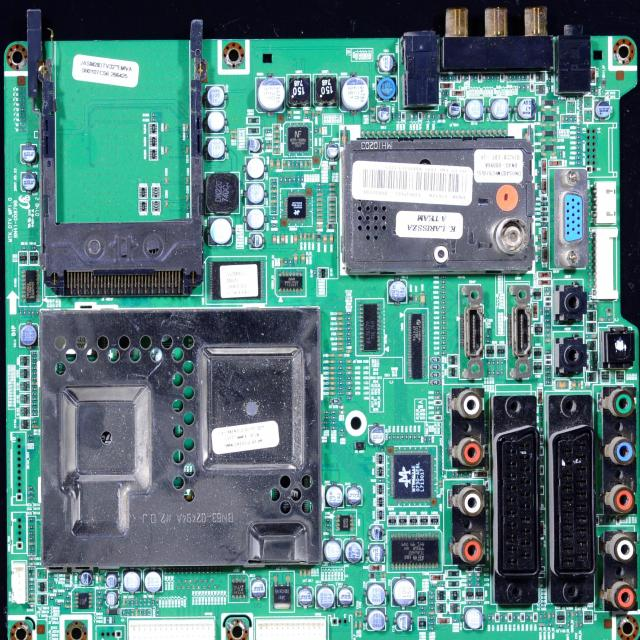Capacitor Jumper: (419, 291, 425, 306), (268, 159, 274, 170), (300, 253, 306, 263), (276, 158, 281, 169), (185, 194, 190, 203), (329, 235, 334, 244), (293, 235, 298, 244), (345, 365, 353, 370), (328, 376, 336, 381), (281, 234, 285, 244), (323, 234, 327, 244), (272, 234, 276, 244), (293, 254, 298, 262), (414, 294, 418, 304), (308, 232, 312, 241), (346, 380, 353, 385), (329, 381, 336, 386), (346, 391, 353, 396), (339, 410, 346, 415), (29, 541, 36, 546), (185, 177, 190, 184), (316, 192, 323, 197), (164, 200, 169, 207), (337, 326, 344, 331), (337, 346, 344, 351), (358, 621, 362, 629), (186, 124, 190, 132), (318, 127, 322, 135), (308, 160, 312, 168), (287, 160, 291, 168), (270, 189, 278, 193), (328, 218, 336, 222), (280, 258, 284, 266), (328, 360, 336, 364), (329, 371, 335, 376), (32, 424, 38, 429), (274, 124, 280, 129), (165, 145, 168, 155), (271, 199, 277, 204), (337, 316, 343, 321), (346, 349, 352, 354), (346, 359, 352, 364), (329, 366, 336, 370), (31, 382, 38, 386), (329, 386, 336, 390), (329, 392, 336, 396), (339, 406, 346, 410), (28, 562, 35, 566), (482, 74, 486, 81), (303, 110, 310, 114), (286, 110, 293, 114), (273, 130, 280, 134), (230, 130, 237, 134), (273, 134, 280, 138), (273, 140, 280, 144), (265, 144, 272, 148), (164, 177, 168, 184), (316, 198, 323, 202), (316, 212, 323, 216), (337, 338, 344, 342), (337, 353, 344, 357), (165, 123, 168, 132), (283, 160, 286, 169), (346, 371, 352, 375), (600, 516, 603, 524), (28, 557, 34, 561), (299, 568, 302, 576), (99, 574, 102, 582), (429, 611, 435, 615), (548, 612, 551, 620), (505, 74, 508, 82), (526, 84, 529, 92), (550, 123, 556, 127), (541, 123, 547, 127), (231, 135, 237, 139), (550, 138, 556, 142), (274, 145, 280, 149), (186, 146, 189, 154), (274, 150, 280, 154), (329, 182, 335, 186), (329, 192, 335, 196), (329, 202, 335, 206), (330, 212, 336, 216), (312, 233, 315, 241), (544, 292, 550, 296), (545, 307, 551, 311), (337, 311, 343, 315), (598, 318, 604, 322), (338, 322, 344, 326), (336, 332, 344, 335), (545, 338, 551, 342), (337, 342, 343, 346), (329, 353, 335, 357), (308, 569, 311, 576), (122, 599, 125, 606), (135, 609, 138, 616), (571, 611, 574, 618), (517, 614, 520, 621), (492, 614, 495, 621), (526, 74, 529, 81), (580, 115, 583, 122), (561, 115, 564, 122), (304, 161, 307, 168), (300, 161, 303, 168), (329, 208, 336, 211), (316, 218, 323, 221), (316, 225, 323, 228), (541, 108, 546, 112), (312, 110, 314, 120), (541, 138, 546, 142), (539, 584, 545, 587), (29, 604, 35, 607), (64, 605, 70, 608), (359, 611, 362, 617), (575, 622, 578, 628), (539, 623, 545, 626), (550, 108, 556, 111), (316, 111, 322, 114), (319, 148, 322, 154), (550, 153, 556, 156), (329, 188, 335, 191), (329, 198, 335, 201), (316, 203, 322, 206), (316, 208, 322, 211), (606, 313, 612, 316), (304, 568, 306, 576), (300, 232, 302, 240), (304, 232, 306, 240), (538, 244, 540, 252), (476, 573, 481, 576), (381, 574, 386, 577), (541, 153, 546, 156), (592, 335, 597, 338), (613, 517, 615, 524), (505, 614, 507, 621), (530, 614, 532, 621), (355, 621, 357, 628), (468, 573, 472, 576), (355, 611, 357, 617), (29, 578, 34, 580), (30, 598, 34, 600)
Connector: (591, 228, 618, 300), (129, 620, 215, 640), (256, 620, 326, 640), (592, 183, 617, 224), (11, 564, 26, 604)
IC: (273, 576, 291, 609), (72, 588, 95, 612), (232, 578, 246, 599), (436, 590, 446, 601), (37, 582, 47, 592), (369, 573, 376, 578)
Resistor Jumper: (150, 112, 157, 118), (337, 386, 344, 391), (346, 396, 353, 401), (28, 531, 35, 536), (28, 536, 35, 541), (31, 356, 38, 361), (572, 381, 576, 389), (392, 433, 396, 441), (284, 258, 288, 266), (31, 366, 37, 371), (338, 391, 344, 396), (346, 321, 352, 326), (485, 339, 491, 344), (337, 371, 344, 375), (337, 376, 344, 380), (337, 381, 344, 385), (27, 434, 34, 438), (428, 436, 432, 443), (28, 490, 35, 494), (28, 496, 35, 500), (538, 578, 545, 582), (513, 74, 517, 81), (286, 116, 293, 120), (265, 130, 272, 134), (544, 287, 551, 291), (345, 312, 352, 316), (31, 352, 38, 356), (545, 365, 551, 369), (338, 366, 344, 370), (346, 376, 352, 380), (578, 381, 581, 389), (346, 386, 352, 390), (32, 387, 38, 391), (32, 397, 38, 401), (32, 402, 38, 406), (32, 407, 38, 411), (401, 433, 404, 441), (396, 433, 399, 441), (409, 433, 412, 441), (405, 434, 408, 442), (388, 433, 391, 441), (28, 439, 34, 443), (28, 486, 34, 490), (28, 518, 34, 522), (608, 516, 611, 524), (28, 525, 34, 529), (29, 552, 35, 556), (168, 568, 172, 574), (49, 596, 55, 600), (65, 600, 71, 604), (156, 598, 159, 606), (134, 599, 138, 605), (139, 608, 142, 616), (558, 624, 564, 628), (509, 74, 512, 82), (496, 74, 499, 82), (471, 74, 474, 82), (518, 83, 521, 91), (537, 168, 540, 176), (289, 258, 292, 266), (606, 308, 612, 312), (346, 316, 352, 320), (346, 327, 352, 331), (346, 337, 352, 341), (346, 342, 352, 346), (496, 359, 499, 366), (488, 369, 491, 376), (424, 436, 427, 443), (131, 609, 134, 616), (552, 612, 555, 619), (488, 614, 491, 621), (112, 617, 115, 624), (518, 74, 521, 81), (487, 75, 490, 82), (474, 75, 477, 82), (537, 183, 540, 190), (32, 376, 37, 380), (32, 412, 37, 416), (476, 578, 481, 582), (57, 592, 62, 596), (420, 606, 425, 610), (151, 118, 156, 122), (441, 290, 446, 294), (545, 312, 550, 316), (485, 329, 490, 333), (338, 360, 343, 364), (488, 360, 491, 366), (32, 362, 38, 365), (545, 371, 551, 374), (492, 370, 495, 376), (546, 381, 552, 384), (32, 392, 38, 395), (414, 433, 416, 442), (202, 567, 205, 573), (181, 568, 184, 574), (164, 568, 167, 574), (29, 593, 35, 596), (65, 595, 71, 598), (152, 599, 155, 605), (139, 599, 142, 605), (476, 601, 482, 604), (96, 601, 102, 604), (97, 606, 103, 609), (420, 612, 426, 615), (575, 611, 578, 617), (452, 619, 458, 622), (429, 622, 435, 625), (567, 622, 570, 628), (522, 74, 525, 80), (522, 84, 525, 90), (569, 116, 572, 122), (266, 140, 272, 143), (440, 281, 446, 284), (441, 316, 447, 319), (606, 318, 612, 321), (545, 329, 551, 332), (346, 332, 352, 335), (546, 334, 552, 337), (545, 351, 551, 354), (418, 433, 420, 441), (468, 578, 472, 582), (50, 586, 54, 590), (144, 598, 146, 606), (430, 606, 434, 610), (148, 608, 150, 616), (157, 608, 159, 616), (544, 612, 546, 620), (540, 612, 542, 620), (492, 74, 494, 82), (314, 269, 316, 277), (442, 341, 446, 345), (32, 372, 37, 375), (546, 376, 551, 379), (29, 568, 34, 571), (215, 568, 218, 573), (49, 575, 54, 578), (29, 583, 34, 586), (476, 583, 481, 586), (97, 591, 102, 594), (429, 591, 434, 594), (429, 596, 434, 599), (57, 603, 62, 606), (429, 617, 434, 620), (548, 623, 553, 626), (576, 126, 581, 129), (576, 131, 581, 134), (541, 202, 546, 205), (441, 286, 446, 289), (441, 296, 446, 299), (441, 301, 446, 304), (441, 306, 446, 309), (441, 311, 446, 314), (545, 319, 550, 322), (441, 321, 446, 324), (545, 324, 550, 327), (485, 335, 490, 338), (441, 336, 446, 339), (441, 346, 446, 349), (497, 369, 499, 376), (598, 374, 600, 381), (604, 517, 606, 524), (131, 599, 133, 606), (127, 599, 129, 606), (123, 609, 125, 616), (127, 609, 129, 616), (144, 609, 146, 616), (567, 611, 569, 618), (501, 614, 503, 621), (526, 614, 528, 621), (107, 617, 109, 624), (540, 307, 542, 314), (492, 360, 494, 366), (501, 360, 503, 366), (501, 370, 503, 376), (173, 568, 175, 574), (177, 568, 179, 574), (431, 584, 437, 586), (148, 599, 150, 605), (468, 601, 472, 604), (580, 611, 582, 617), (513, 614, 515, 620), (574, 116, 576, 122), (566, 116, 568, 122), (576, 162, 582, 164), (542, 222, 546, 225), (538, 235, 540, 241), (538, 255, 540, 261), (442, 326, 446, 329), (585, 335, 589, 338), (442, 352, 446, 355), (612, 374, 614, 379), (540, 407, 542, 412), (540, 417, 542, 422), (186, 568, 188, 573), (190, 568, 192, 573), (198, 568, 200, 573), (194, 568, 196, 573), (49, 582, 54, 584), (440, 584, 445, 586), (97, 597, 102, 599), (429, 602, 434, 604), (580, 622, 582, 627), (576, 142, 581, 144), (576, 147, 581, 149), (576, 157, 581, 159), (441, 276, 446, 278), (441, 332, 446, 334), (586, 386, 590, 388), (206, 568, 208, 572), (220, 568, 222, 572), (211, 568, 213, 572), (30, 573, 34, 575), (468, 584, 472, 586), (30, 588, 34, 590), (577, 137, 581, 139), (576, 152, 580, 154), (542, 213, 546, 215)
Transistor: (556, 610, 566, 624), (534, 322, 544, 336), (584, 610, 593, 624), (486, 344, 495, 358), (586, 310, 597, 321), (586, 322, 597, 333), (475, 587, 484, 600), (496, 345, 505, 358), (448, 367, 458, 378), (37, 569, 48, 579), (450, 590, 461, 600), (37, 594, 47, 605), (450, 602, 460, 613), (586, 341, 597, 351), (616, 371, 625, 383), (601, 371, 610, 383), (465, 588, 474, 600), (436, 603, 446, 613), (448, 355, 458, 365), (533, 362, 542, 373), (418, 592, 426, 604), (533, 288, 541, 300), (587, 372, 596, 382), (534, 348, 542, 359), (419, 618, 426, 629)
